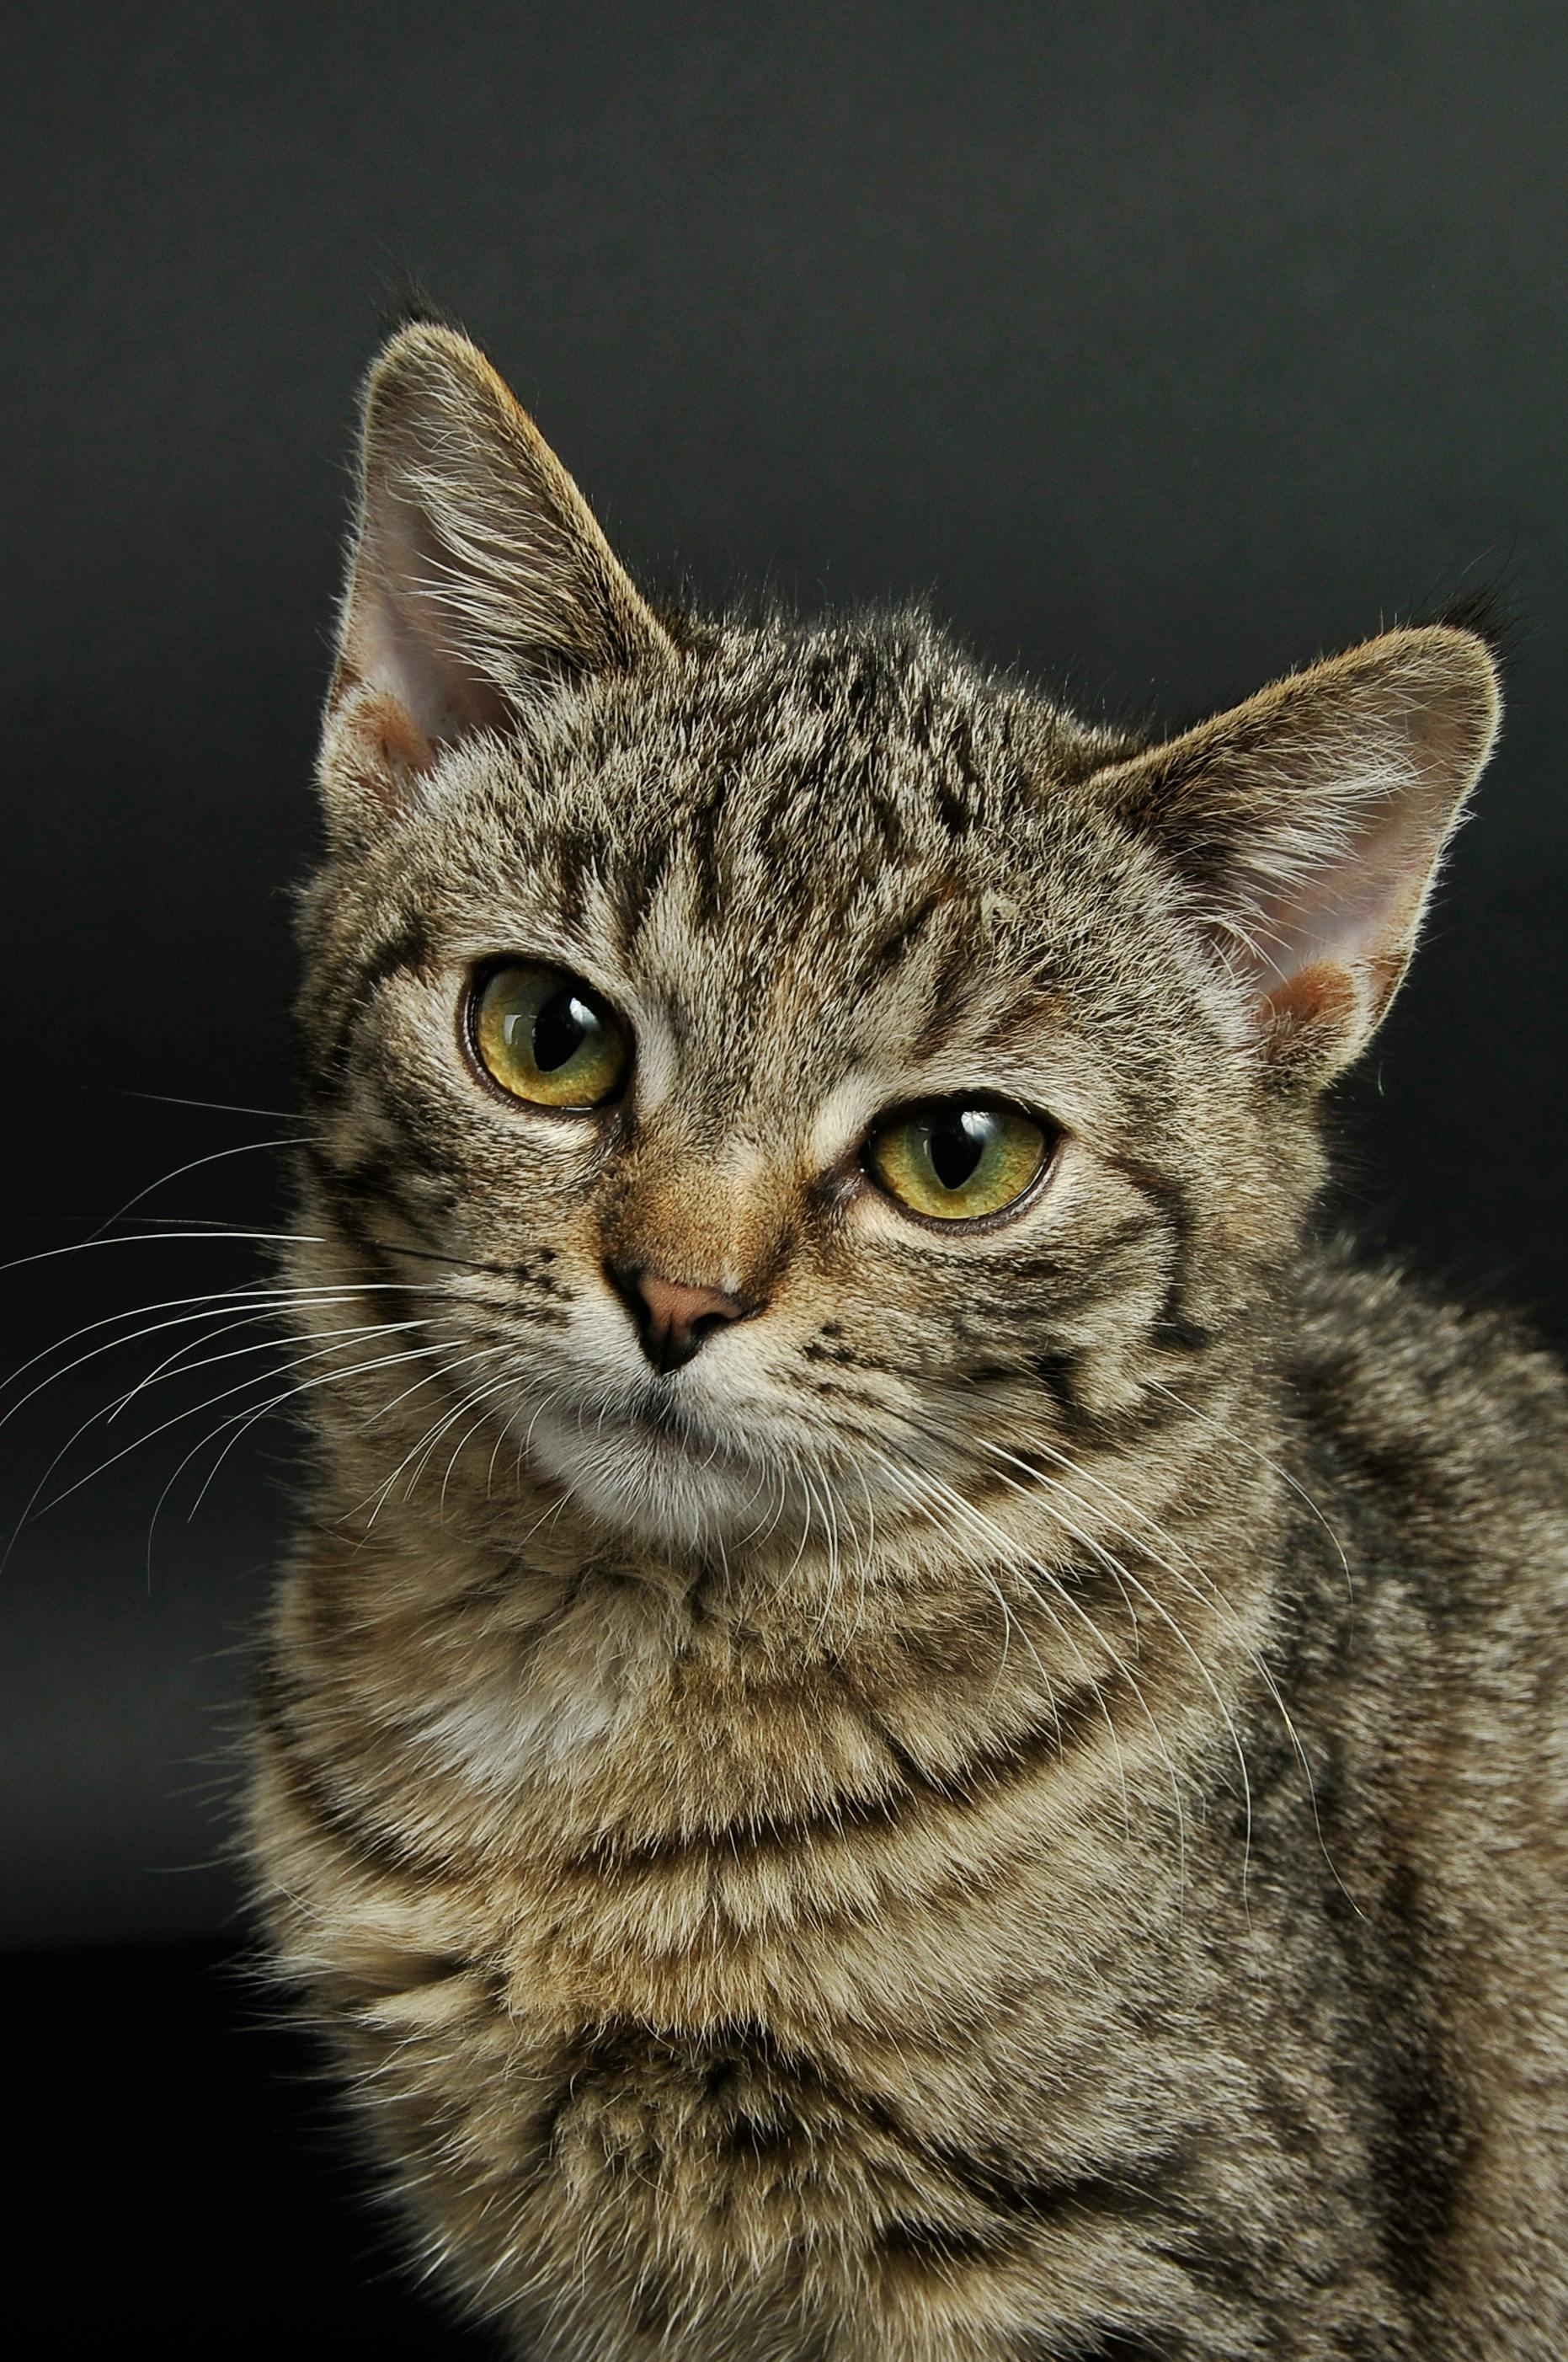kedo: (257, 317, 1568, 2362)
